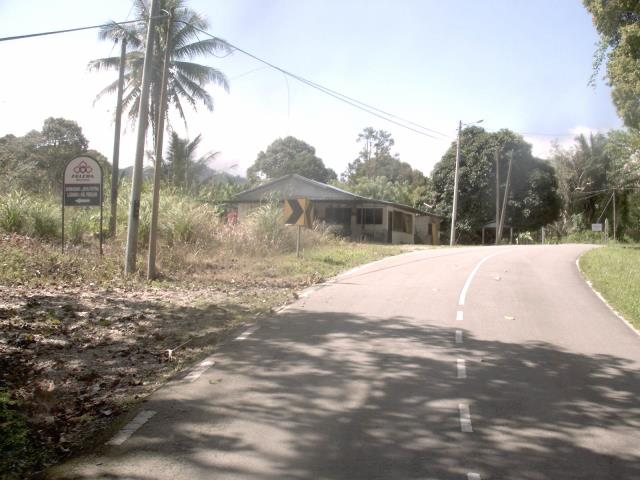traffic_sign: (280, 191, 313, 232)
